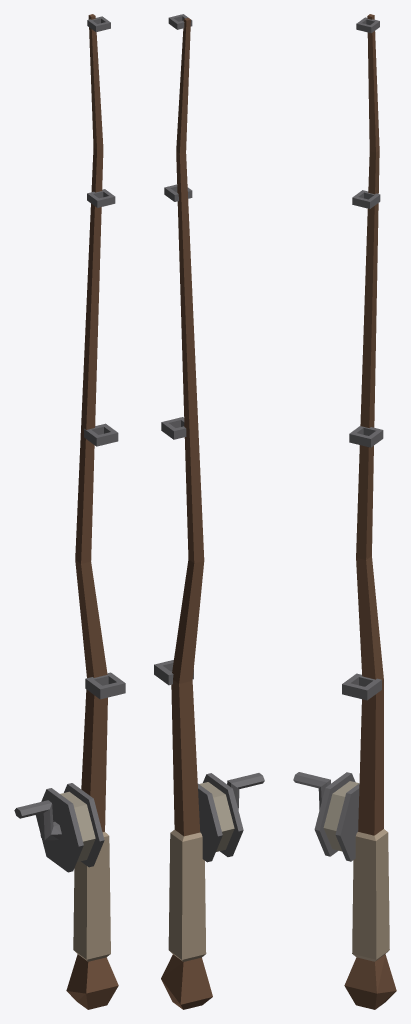
Rendered from SM_Prop_FishingRod_01.glb.
The picture shows the model from 3 angles, left to right: view 1: azimuth 30°, elevation 25°; view 2: azimuth 210°, elevation 25°; view 3: azimuth 330°, elevation 25°; orthographic projection.
Visible parts, largest first — view 1: SM_Prop_FishingRod_01_part00; view 2: SM_Prop_FishingRod_01_part00; view 3: SM_Prop_FishingRod_01_part00.
Part boxes in pixels (x1,y1,x2,y2): SM_Prop_FishingRod_01_part00: (14,14,125,1009); SM_Prop_FishingRod_01_part00: (154,14,264,1009); SM_Prop_FishingRod_01_part00: (293,14,396,1009).
Size of the model in its own units: 0.2244 by 2.35 by 0.1855.
1 material, 1 textured.
